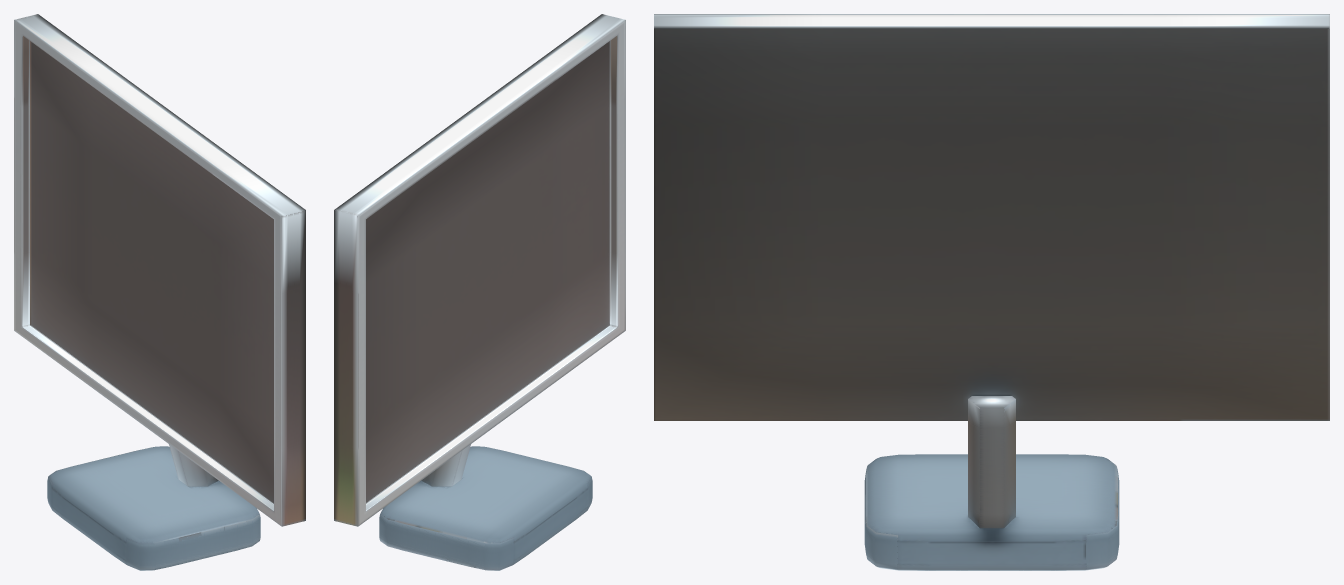
The model's file is monitor.glb.
3 renders of one model, left to right at view 1: azimuth 30°, elevation 25°; view 2: azimuth 150°, elevation 25°; view 3: azimuth 270°, elevation 25°, orthographic. The views are drawn at different scales.
Parts seen in each view (by area): view 1: Cube.006; view 2: Cube.006; view 3: Cube.006.
Part boxes in pixels (x1,y1,x2,y2): Cube.006: (14, 14, 305, 570); Cube.006: (334, 14, 625, 570); Cube.006: (654, 14, 1329, 570).
Size of the model in its own units: 0.0161 by 0.0479 by 0.0566.
Materials: 1 (1 with a texture image).
